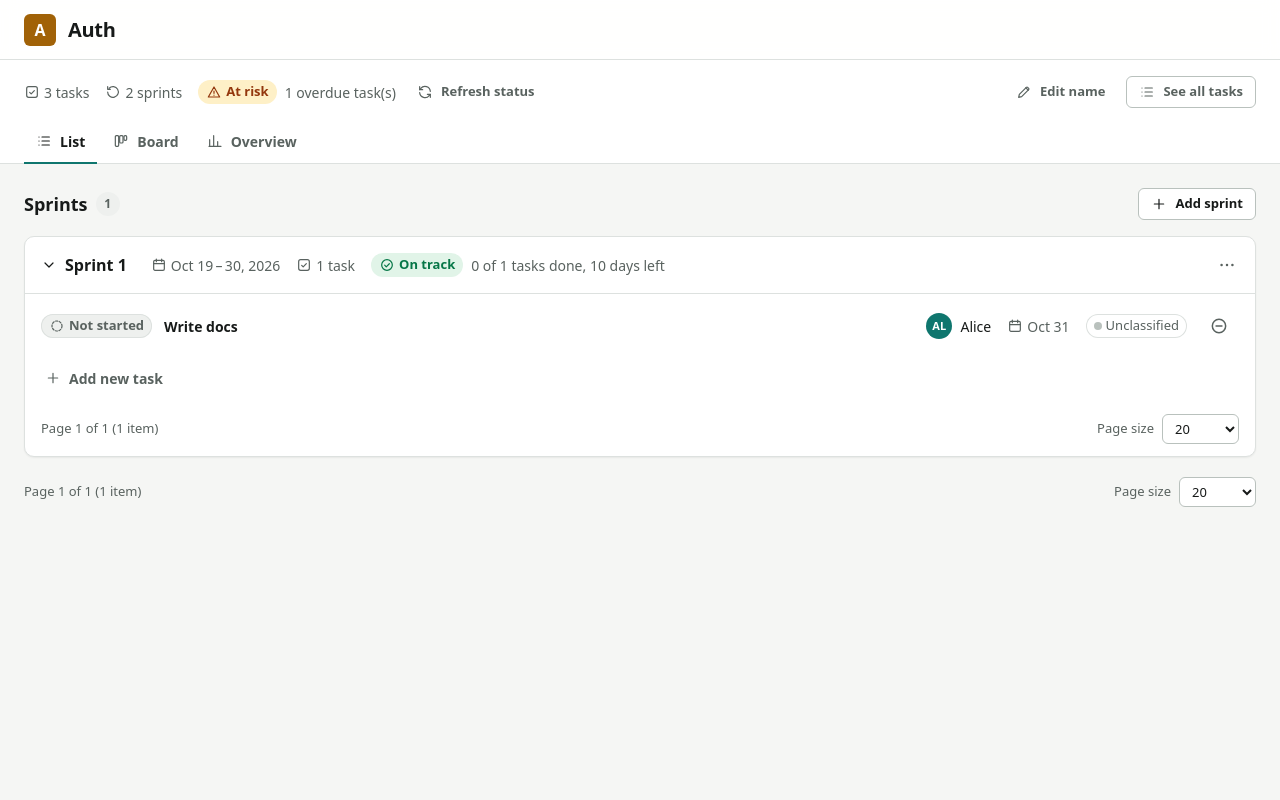
it: Project page › prefills Add new task with this sprint and project
Click the button "Add new task" at (116, 378), box [33,358,1247,398]
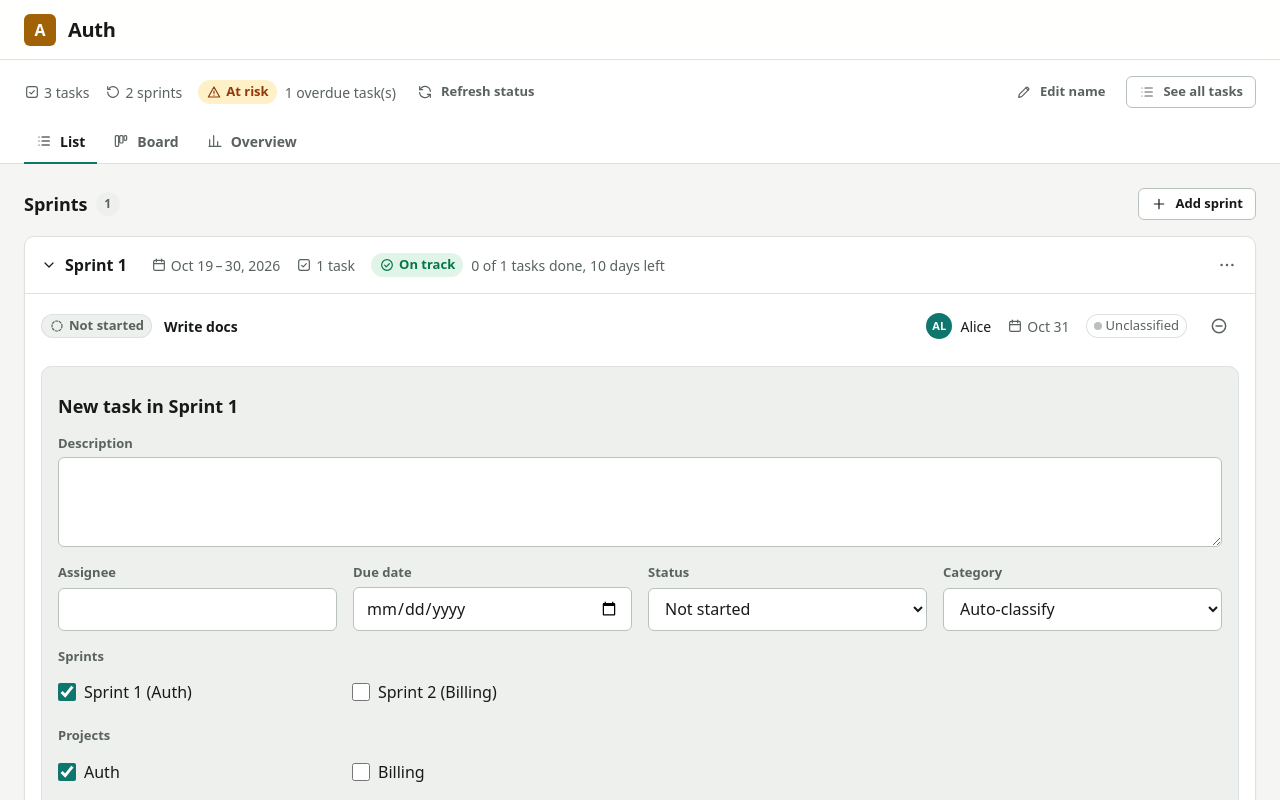
Check: the checkbox labelled "Sprint 1 (Auth)" is checked, box [58,683,76,701]
Check: the checkbox labelled "Auth" is checked, box [58,762,76,780]
Type "Alice" into the field labelled "Assignee" at (198, 609), box [58,588,337,630]
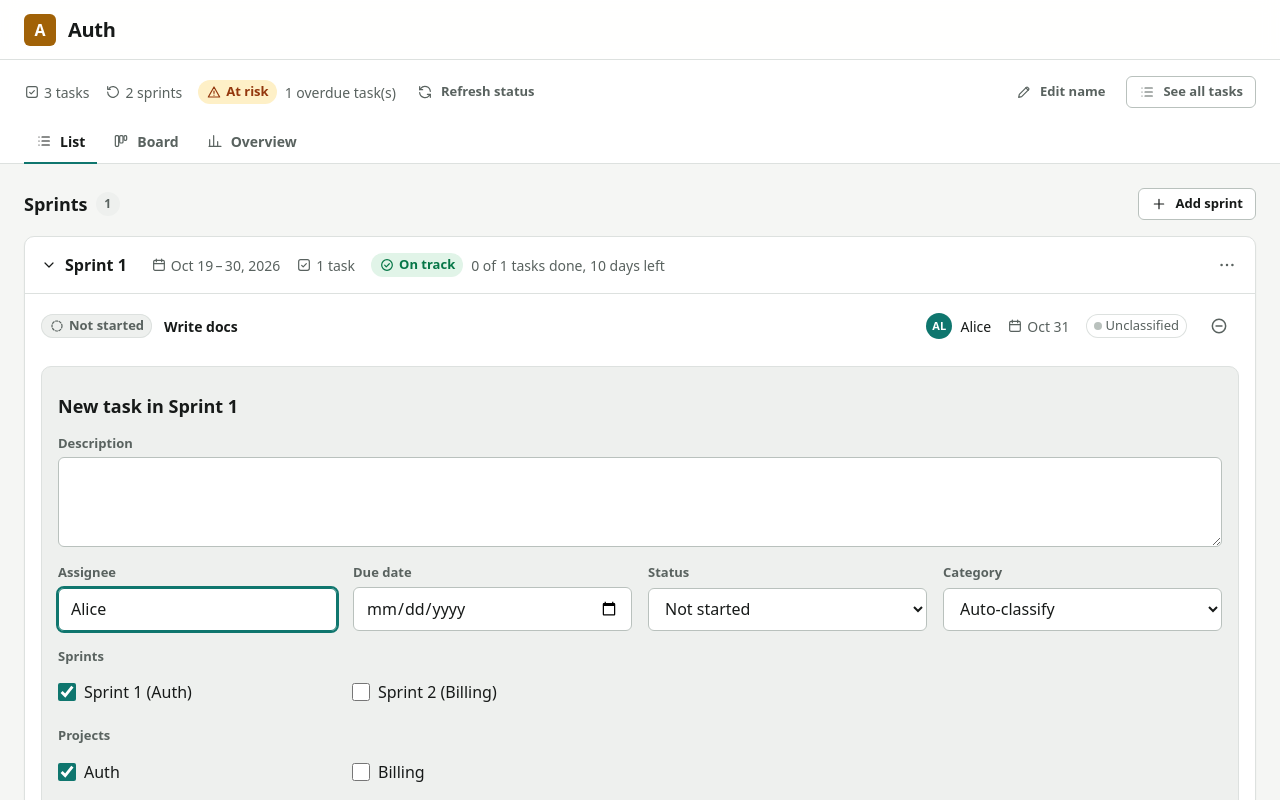
Type "2026-10-31" into the date field labelled "Due date" at (492, 608), box [353,586,632,630]
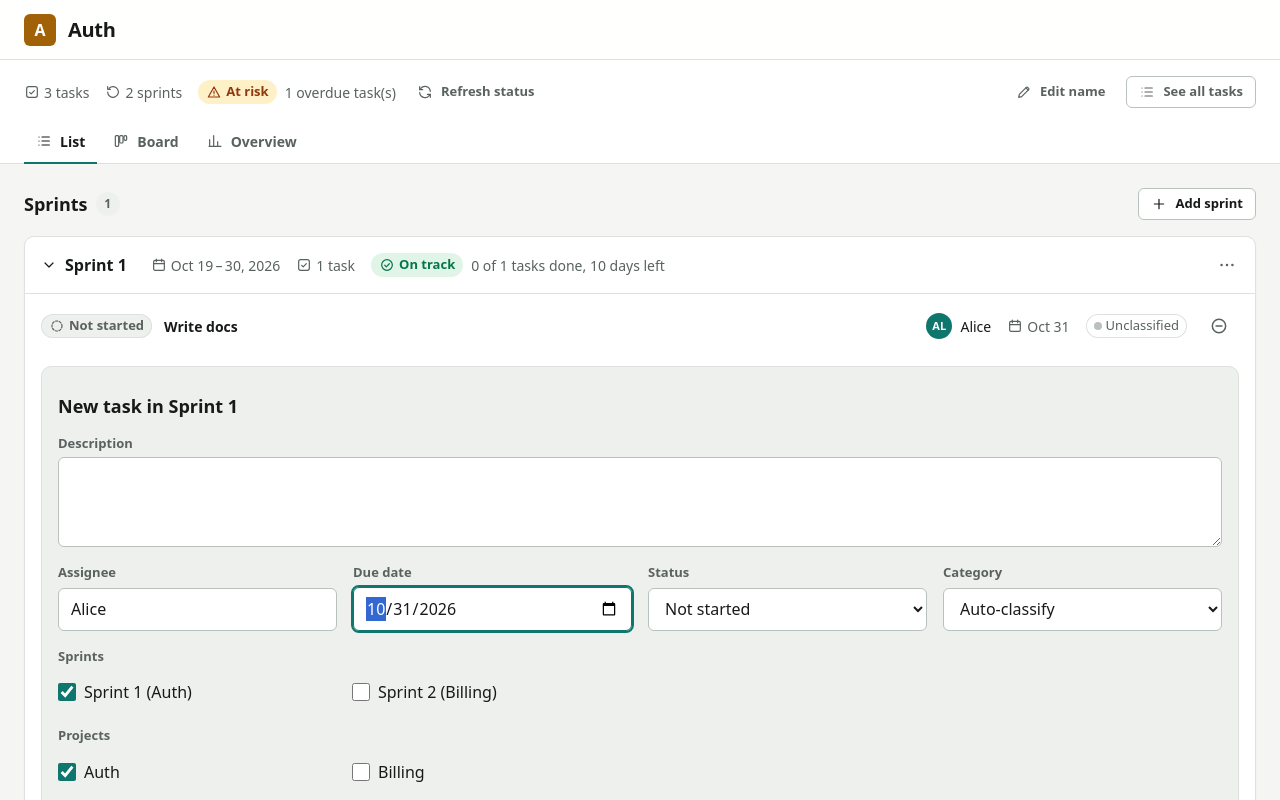
Type "Ship it" into the text box labelled "Description" at (640, 502), box [58,457,1222,547]
(page scrolled)
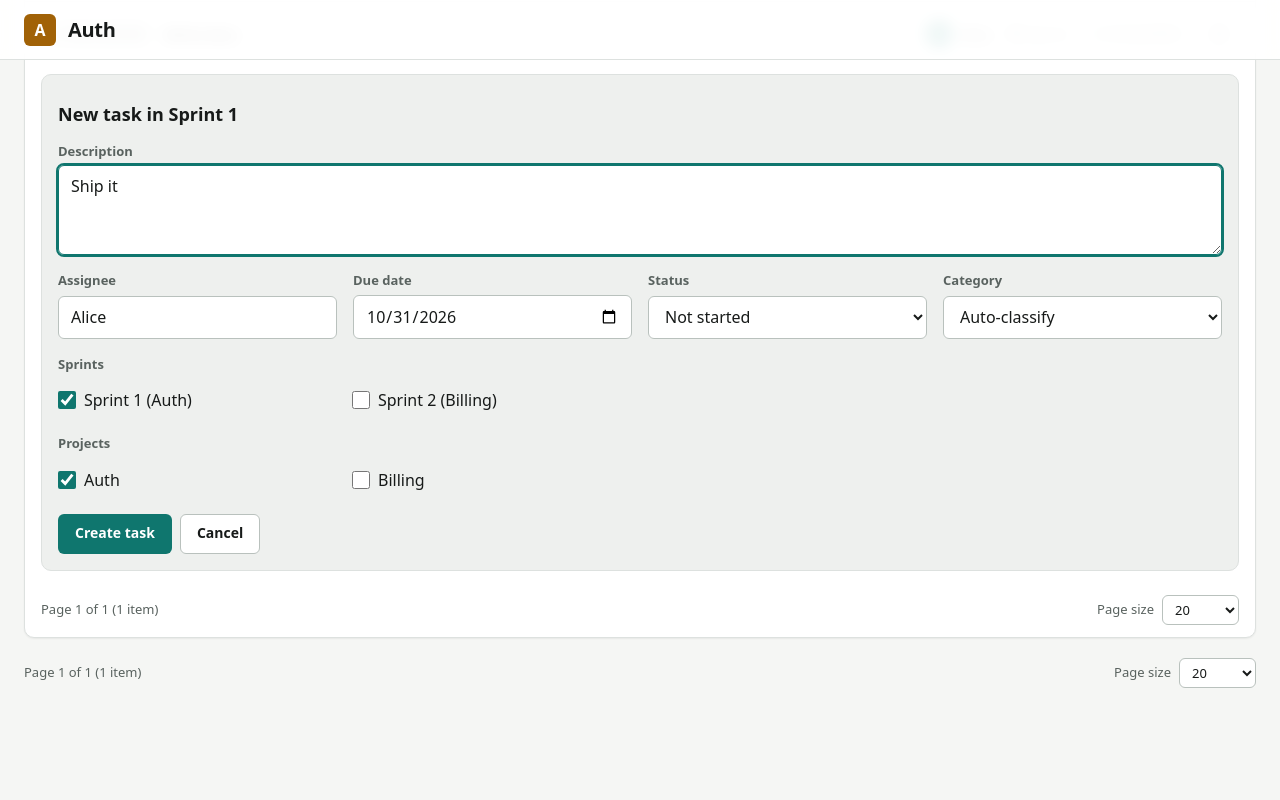
Click the button "Create task" at (115, 534), box [58,514,172,554]
(page scrolled)
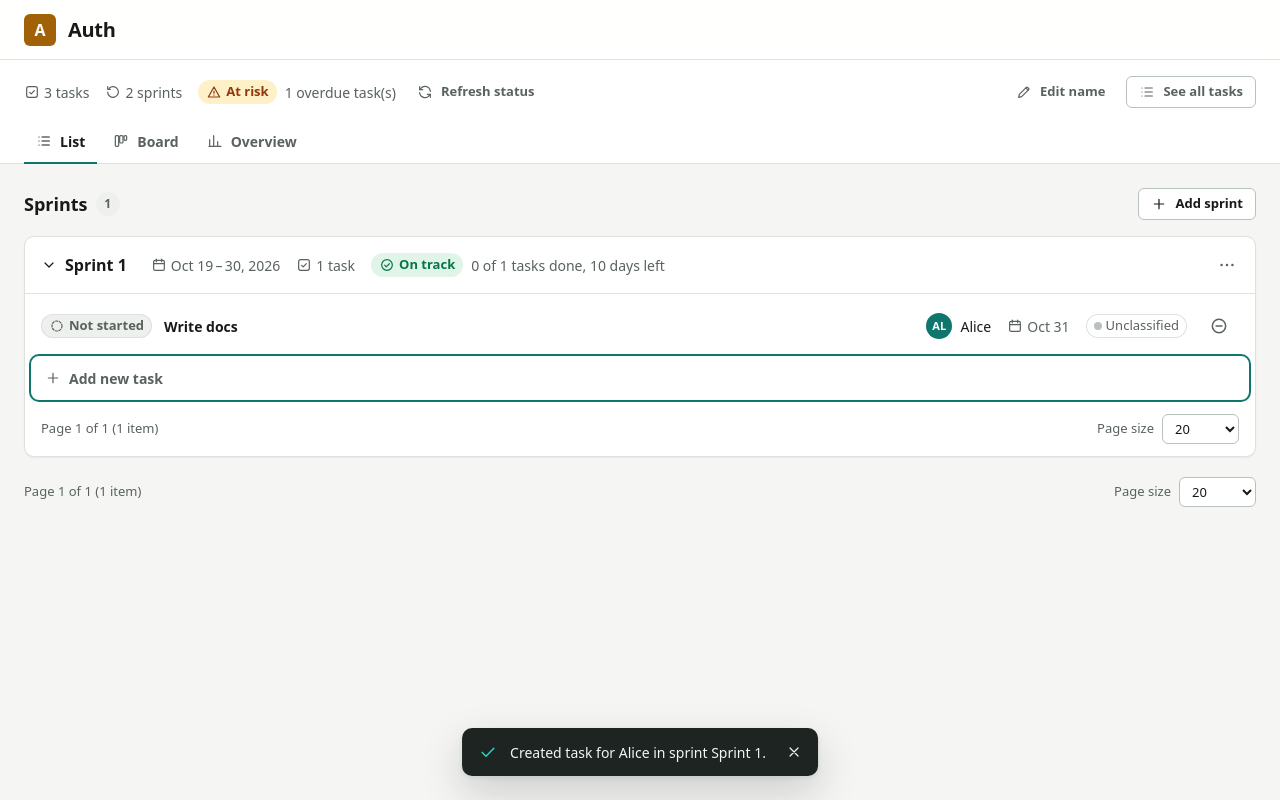
Check: the heading "New task in Sprint 1" is gone
